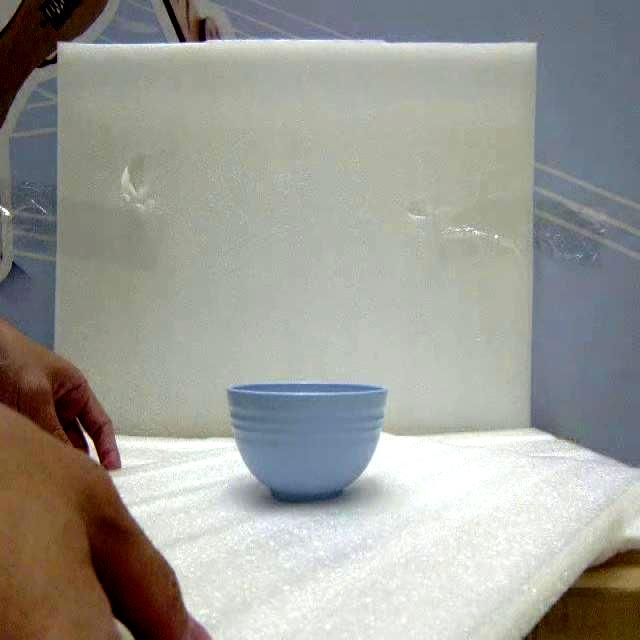Bowl: (227, 383, 386, 500)
